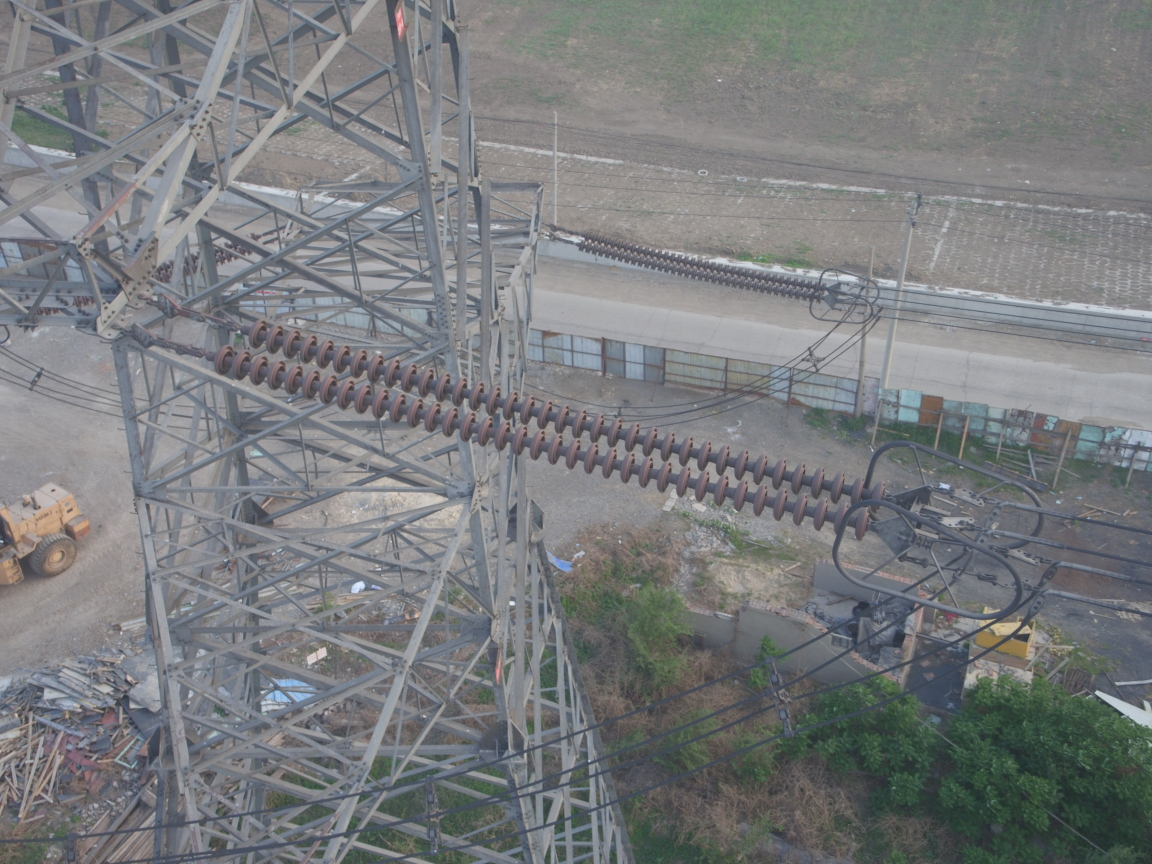insulator: (197, 313, 891, 544), (566, 226, 834, 305)
